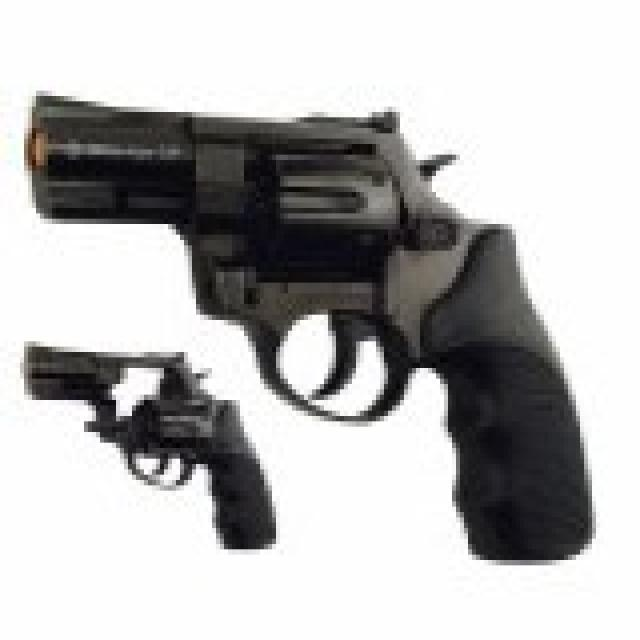Gun: (7, 66, 601, 604)
